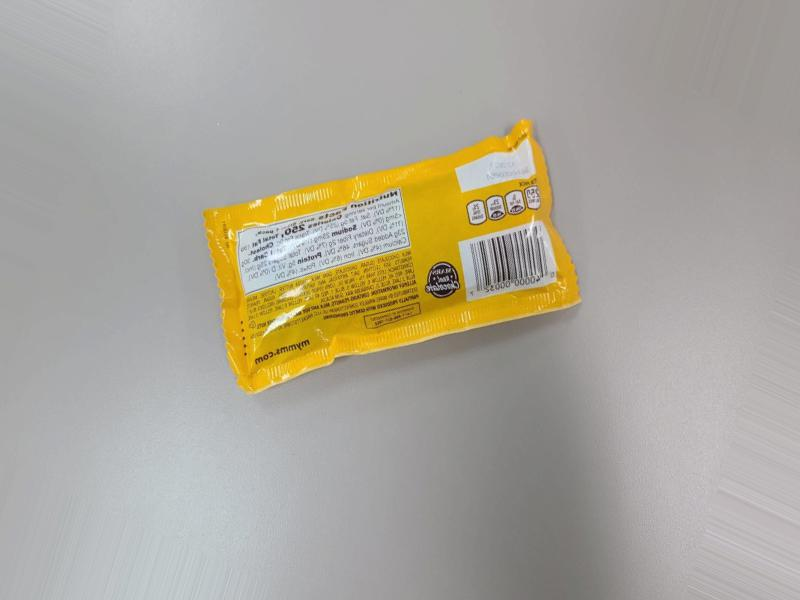m&m: (195, 130, 571, 406)
